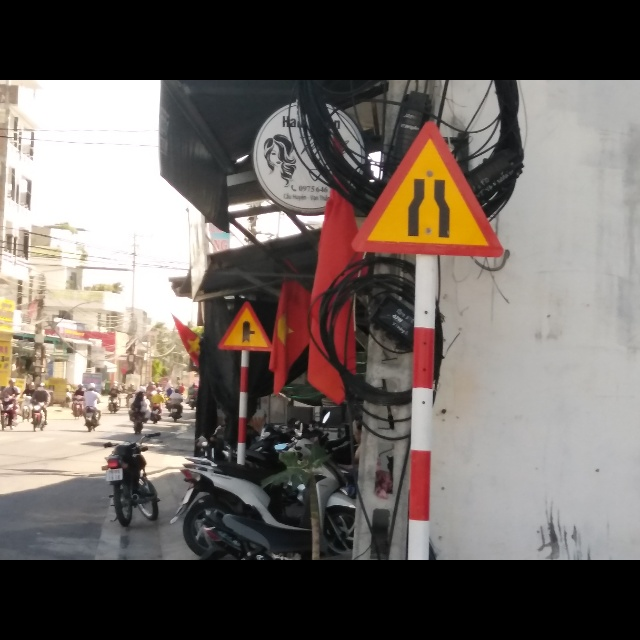Giao nhau với đường không ưu tiên: (217, 303, 276, 356)
Đường bị hẹp cả hai bên: (354, 135, 503, 259)
